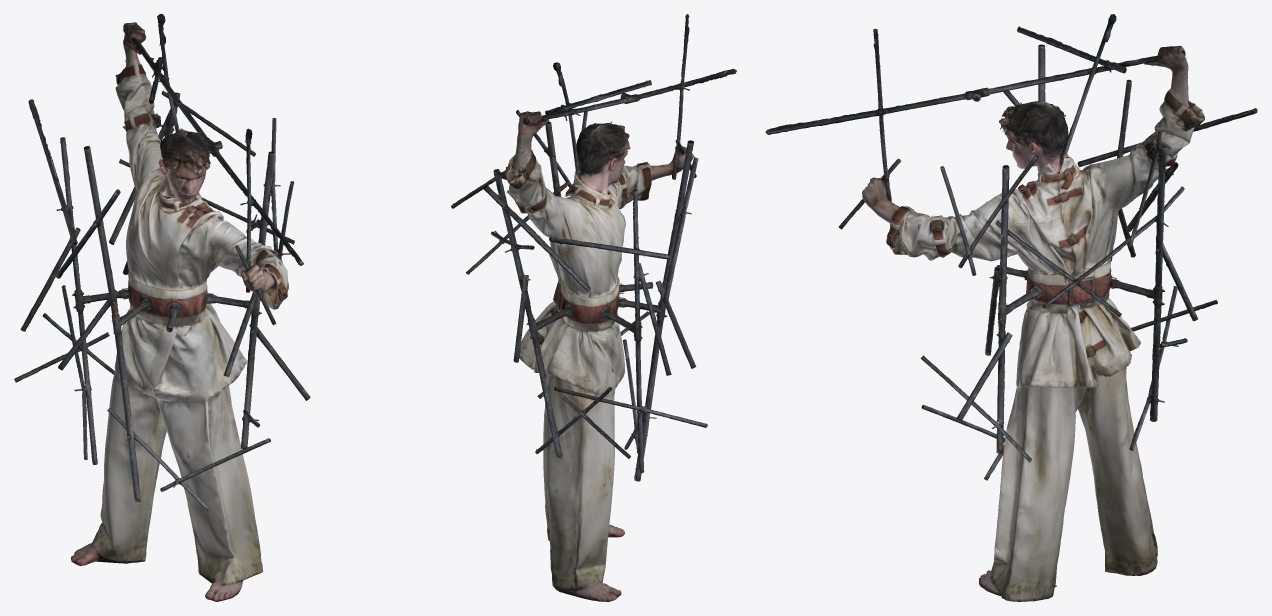
Rendered from art3d-01.glb.
3 renders of one model, left to right at view 1: azimuth 30°, elevation 25°; view 2: azimuth 150°, elevation 25°; view 3: azimuth 270°, elevation 25°, orthographic. The views are drawn at different scales.
Parts seen in each view (by area): view 1: 8_Ultra_High_Quality_Scan; view 2: 8_Ultra_High_Quality_Scan; view 3: 8_Ultra_High_Quality_Scan.
Part boxes in pixels (x1,y1,x2,y2): 8_Ultra_High_Quality_Scan: (14, 14, 310, 601); 8_Ultra_High_Quality_Scan: (451, 14, 736, 601); 8_Ultra_High_Quality_Scan: (765, 14, 1257, 601).
Size of the model in its own units: 6.47 by 11.9 by 9.35.
1 material, 1 textured.
